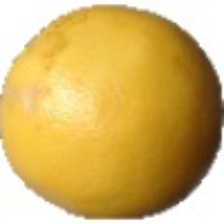grapes: (26, 34, 198, 213)
